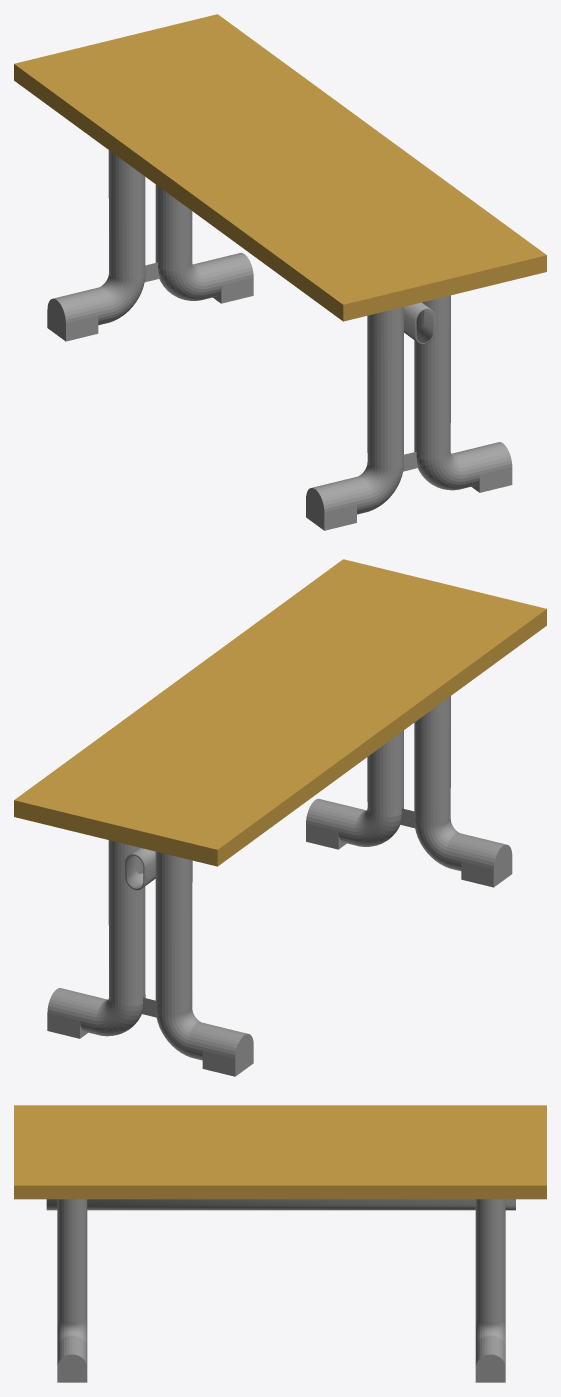
File: Tisch Klein.fbx
The picture shows the model from 3 angles, top to bottom: view 1: azimuth 30°, elevation 25°; view 2: azimuth 150°, elevation 25°; view 3: azimuth 270°, elevation 25°; orthographic projection. The views are drawn at different scales.
Visible parts, largest first — view 1: Cylinder.057; view 2: Cylinder.057; view 3: Cylinder.057.
Part boxes in pixels (x1=…): Cylinder.057: x1=14, y1=14, x2=546, y2=530; Cylinder.057: x1=14, y1=559, x2=546, y2=1076; Cylinder.057: x1=14, y1=1105, x2=546, y2=1382.
Size of the model in its own units: 0.6368 by 0.7395 by 1.78.
